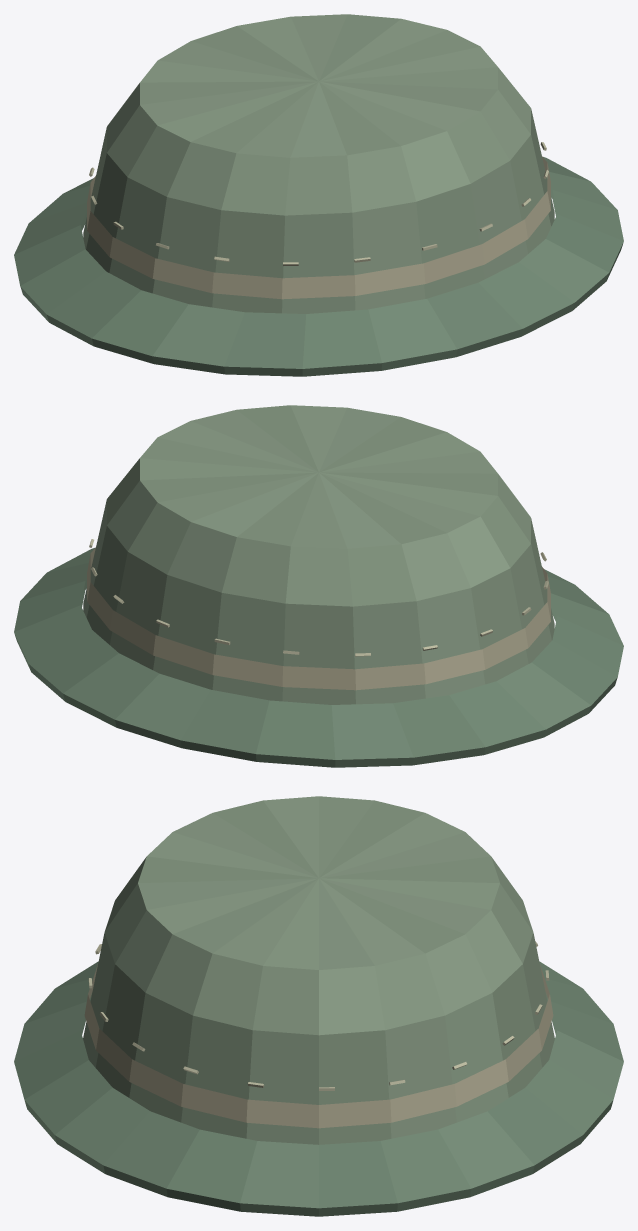
File: hat_bucket.glb
The picture shows the model from 3 angles, top to bottom: view 1: azimuth 30°, elevation 25°; view 2: azimuth 150°, elevation 25°; view 3: azimuth 270°, elevation 25°; orthographic projection. The views are drawn at different scales.
Visible parts, largest first — view 1: hat_bucket; view 2: hat_bucket; view 3: hat_bucket.
Boxes of the visible parts, x1,y1,x2,y2 form: hat_bucket: (14, 14, 623, 376); hat_bucket: (14, 405, 623, 767); hat_bucket: (14, 796, 623, 1216).
Size of the model in its own units: 0.64 by 0.197 by 0.5632.
